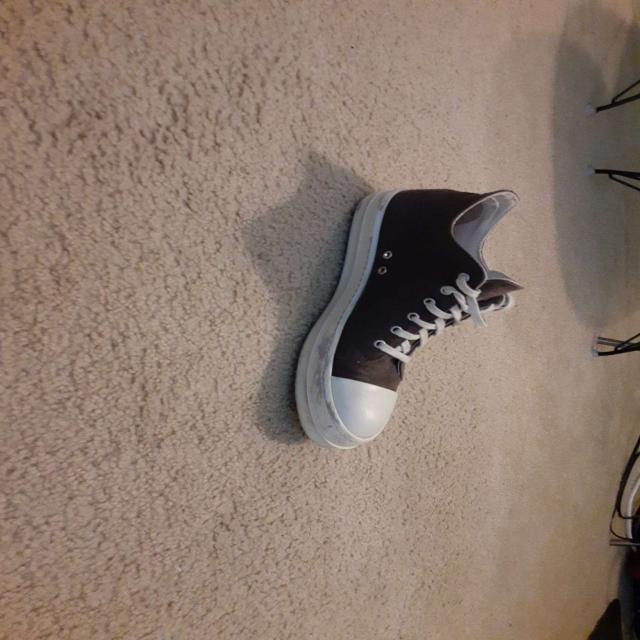shoes: (292, 187, 525, 450)
